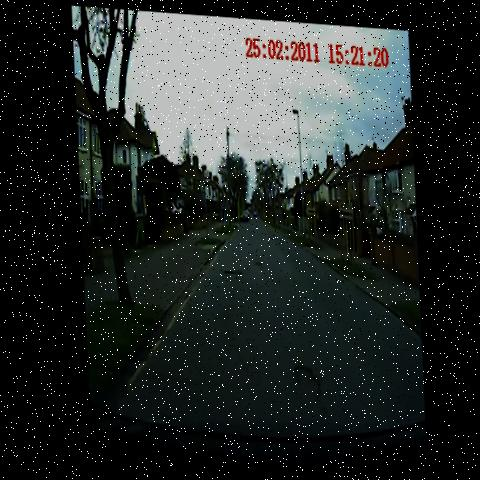pothole: (280, 350, 322, 404), (220, 256, 245, 282), (249, 249, 262, 266)
